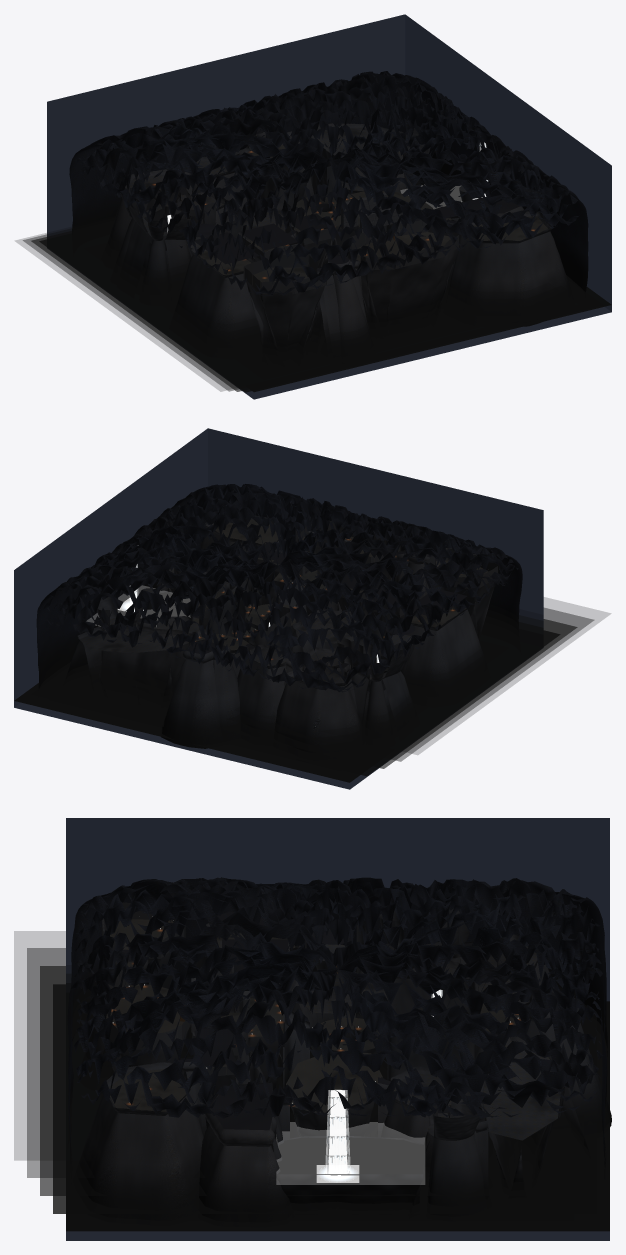
Rendered from dungeon.glb.
3 renders of one model, top to bottom at view 1: azimuth 30°, elevation 25°; view 2: azimuth 150°, elevation 25°; view 3: azimuth 270°, elevation 25°, orthographic. The views are drawn at different scales.
Parts seen in each view (by area): view 1: dunGeo_DOME_dome, dunShell, dunAbyssDark4, dunAbyssDark3, dunAbyssDark2, dunGeo_X_cliff, dunGeo_Y_cliff, dunGeo_N_cliff, dunGeo_Z_cliff, dunGeo_H_cliff, dunAbyssDark1, dunGeo_J_cliff (+11 smaller); view 2: dunGeo_DOME_dome, dunShell, dunAbyssDark4, dunAbyssDark3, dunAbyssDark2, dunGeo_K_cliff, dunAbyssDark1, dunGeo_A_cliff, dunAbyssDark0, dunGeo_Y_cliff, dunGeo_T_cliff, dunGeo_N_cliff (+8 smaller); view 3: dunGeo_DOME_dome, dunShell, dunAbyssDark4, dunAbyssDark3, dunAbyssDark2, dunAbyssDark0, dunGeo_X_cliff, dunAbyssDark1, dunGeo_W_cliff, dunMistLake, dunGeo_U_cliff, dunGeo_E_cliff (+22 smaller).
Boxes of the visible parts, bbox=[...] form: dunGeo_DOME_dome: bbox=[69, 71, 588, 295]; dunShell: bbox=[47, 14, 611, 399]; dunAbyssDark4: bbox=[15, 216, 577, 391]; dunAbyssDark3: bbox=[23, 183, 586, 391]; dunAbyssDark2: bbox=[31, 185, 594, 391]; dunGeo_X_cliff: bbox=[444, 211, 571, 326]; dunGeo_Y_cliff: bbox=[173, 244, 259, 347]; dunGeo_N_cliff: bbox=[114, 187, 202, 294]; dunGeo_Z_cliff: bbox=[246, 266, 340, 357]; dunGeo_H_cliff: bbox=[361, 247, 458, 329]; dunAbyssDark1: bbox=[239, 279, 603, 392]; dunGeo_J_cliff: bbox=[311, 255, 372, 355]; dunGeo_DOME_dome: bbox=[36, 484, 522, 692]; dunShell: bbox=[14, 428, 543, 789]; dunAbyssDark4: bbox=[83, 597, 610, 754]; dunAbyssDark3: bbox=[66, 608, 593, 761]; dunAbyssDark2: bbox=[48, 616, 576, 768]; dunGeo_K_cliff: bbox=[237, 643, 364, 759]; dunAbyssDark1: bbox=[31, 666, 399, 776]; dunGeo_A_cliff: bbox=[161, 639, 240, 748]; dunAbyssDark0: bbox=[14, 662, 371, 782]; dunGeo_Y_cliff: bbox=[404, 602, 487, 696]; dunGeo_T_cliff: bbox=[66, 626, 195, 701]; dunGeo_N_cliff: bbox=[337, 638, 416, 737]; dunGeo_DOME_dome: bbox=[67, 877, 607, 1178]; dunShell: bbox=[66, 818, 609, 1240]; dunAbyssDark4: bbox=[14, 931, 557, 1159]; dunAbyssDark3: bbox=[27, 948, 570, 1177]; dunAbyssDark2: bbox=[40, 966, 583, 1195]; dunAbyssDark0: bbox=[66, 1001, 609, 1231]; dunGeo_X_cliff: bbox=[76, 1057, 206, 1220]; dunAbyssDark1: bbox=[53, 1004, 596, 1213]; dunGeo_W_cliff: bbox=[199, 1082, 292, 1222]; dunMistLake: bbox=[276, 1122, 424, 1184]; dunGeo_U_cliff: bbox=[424, 1091, 491, 1216]; dunGeo_E_cliff: bbox=[276, 1136, 425, 1214].
Bounding box in the file's own units: 528 × 181 × 506.
31 materials, 10 textured.
